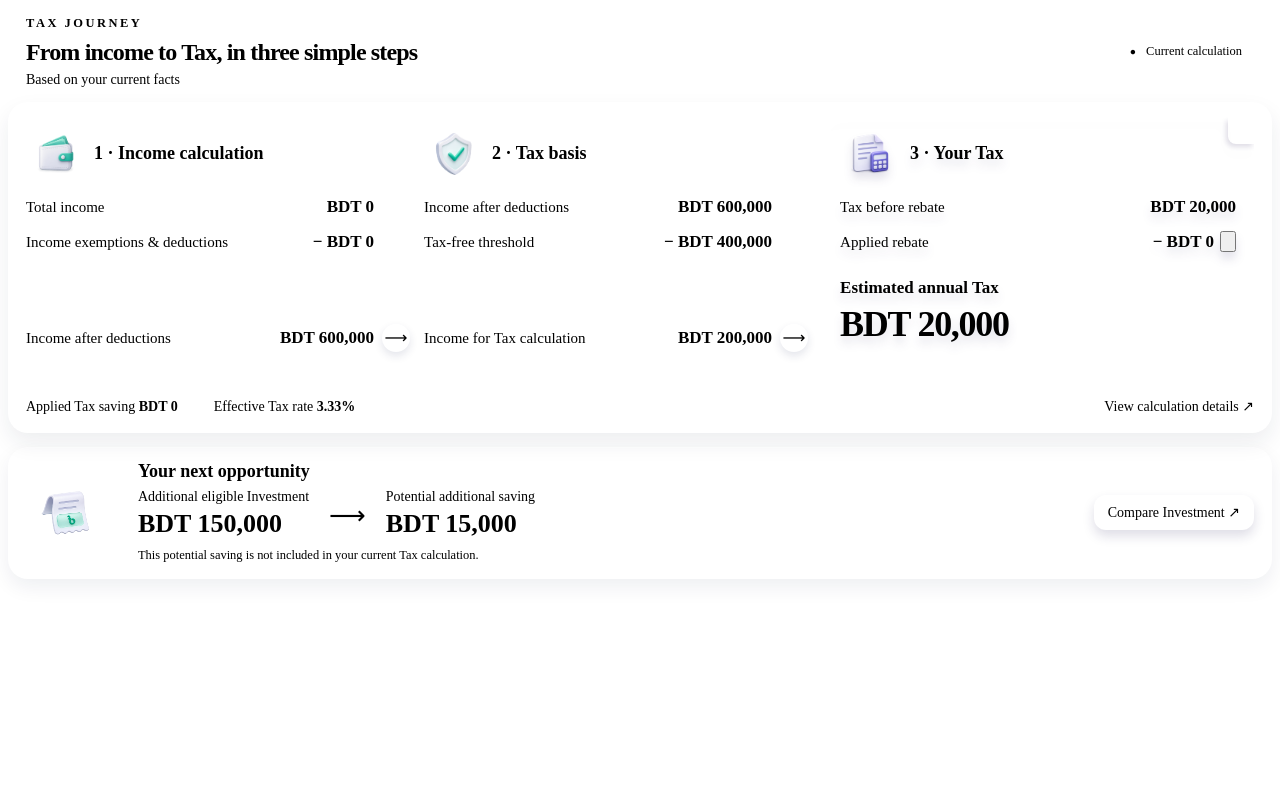
Test: keeps the receipt on current facts and exposes statutory versus usable rebate
Focus the button named "How your rebate is calculated" at (1228, 242), box [1220,231,1236,252]
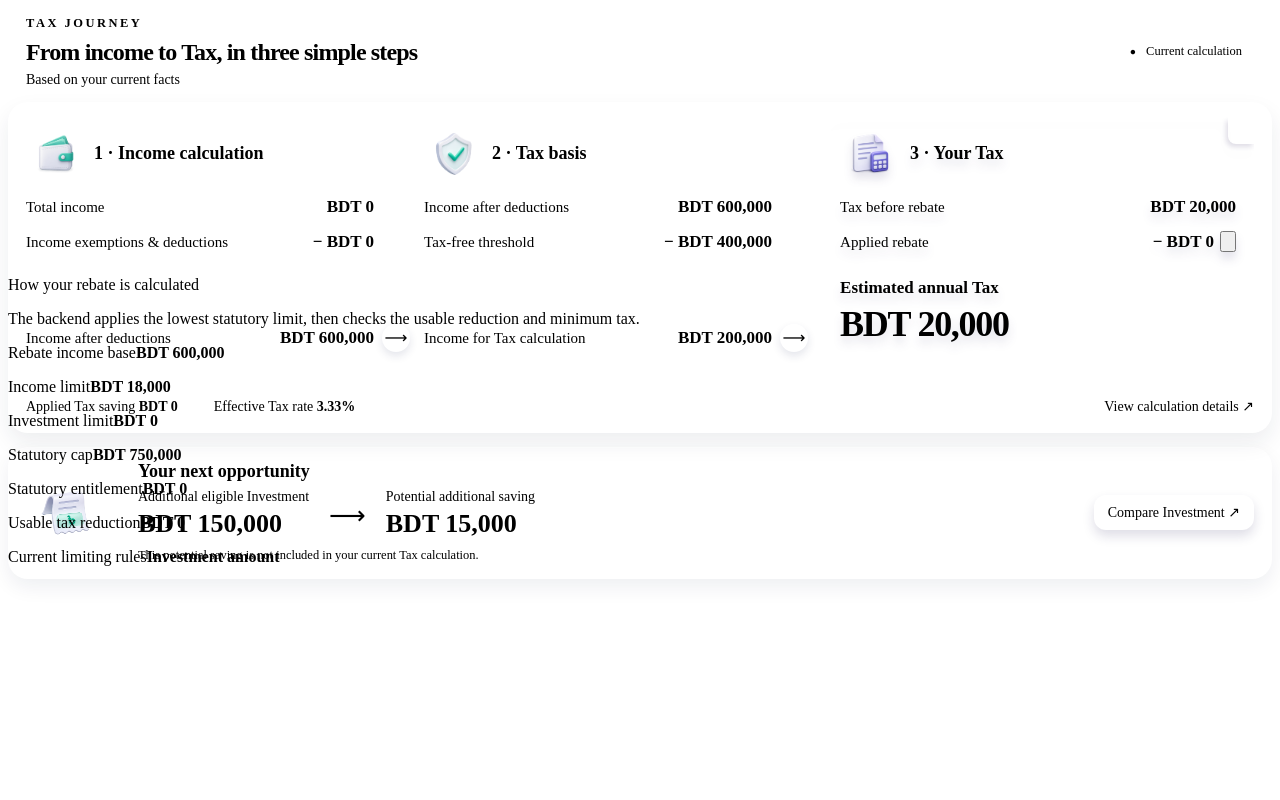
Expected: the tooltip shows "Statutory entitlement", [8,480,143,497]
Expected: the tooltip shows "Usable tax reduction", [8,514,140,531]
